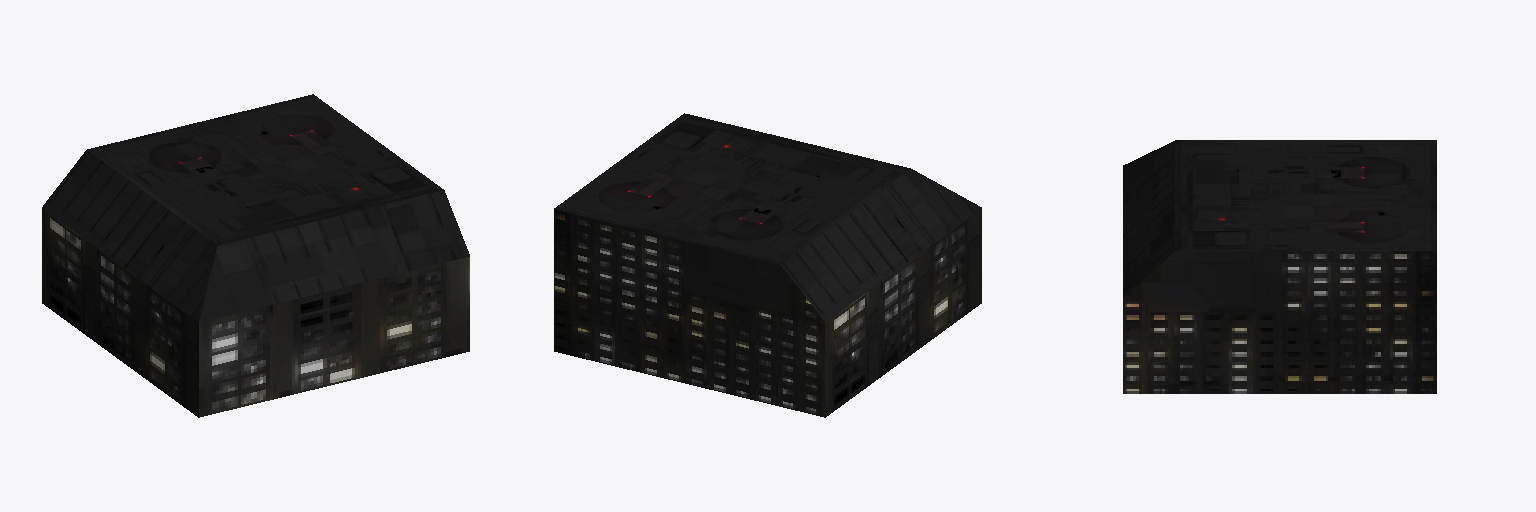
3 renders of one model, left to right at view 1: azimuth 30°, elevation 25°; view 2: azimuth 150°, elevation 25°; view 3: azimuth 270°, elevation 25°, orthographic.
Parts seen in each view (by area): view 1: building_23; view 2: building_23; view 3: building_23.
Part boxes in pixels (x1,y1,x2,y2): building_23: (42, 94, 469, 417); building_23: (554, 113, 981, 417); building_23: (1123, 140, 1436, 393).
Bounding box in the file's own units: 59.18 × 29.6 × 59.18.
1 materials, 1 textured.